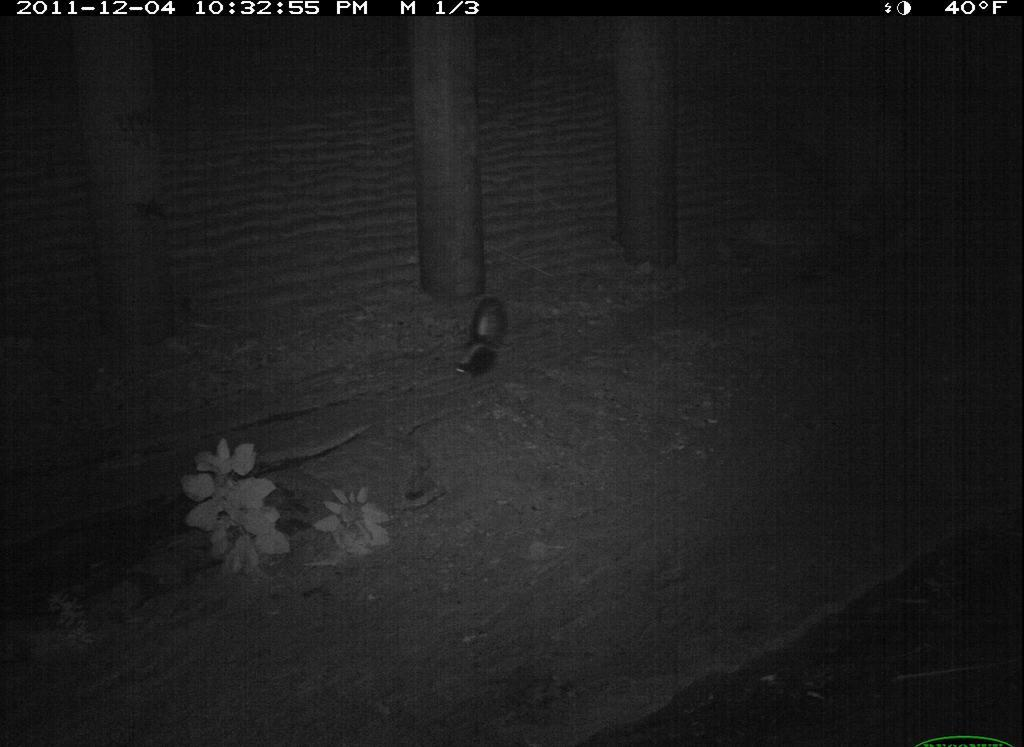skunk: (896, 579, 1024, 747)
